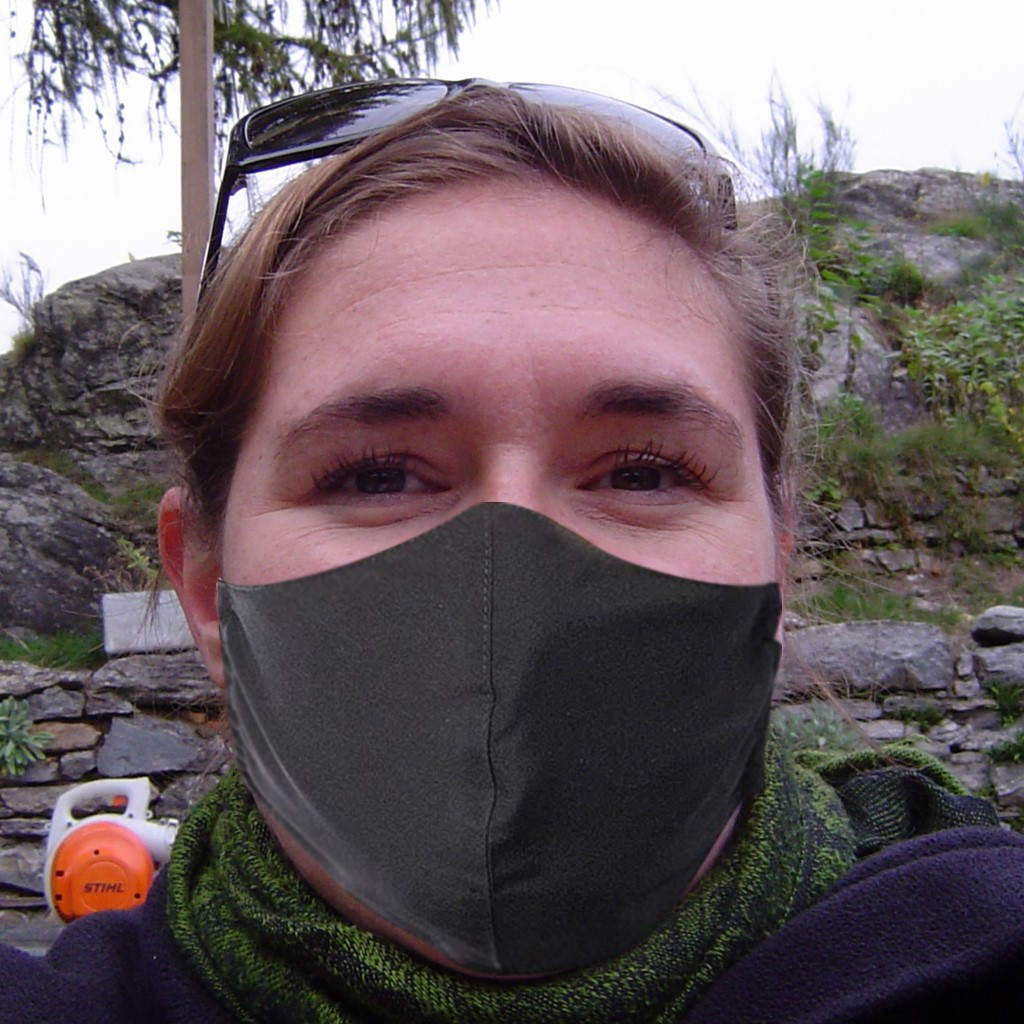con_mascara: (205, 122, 782, 952)
